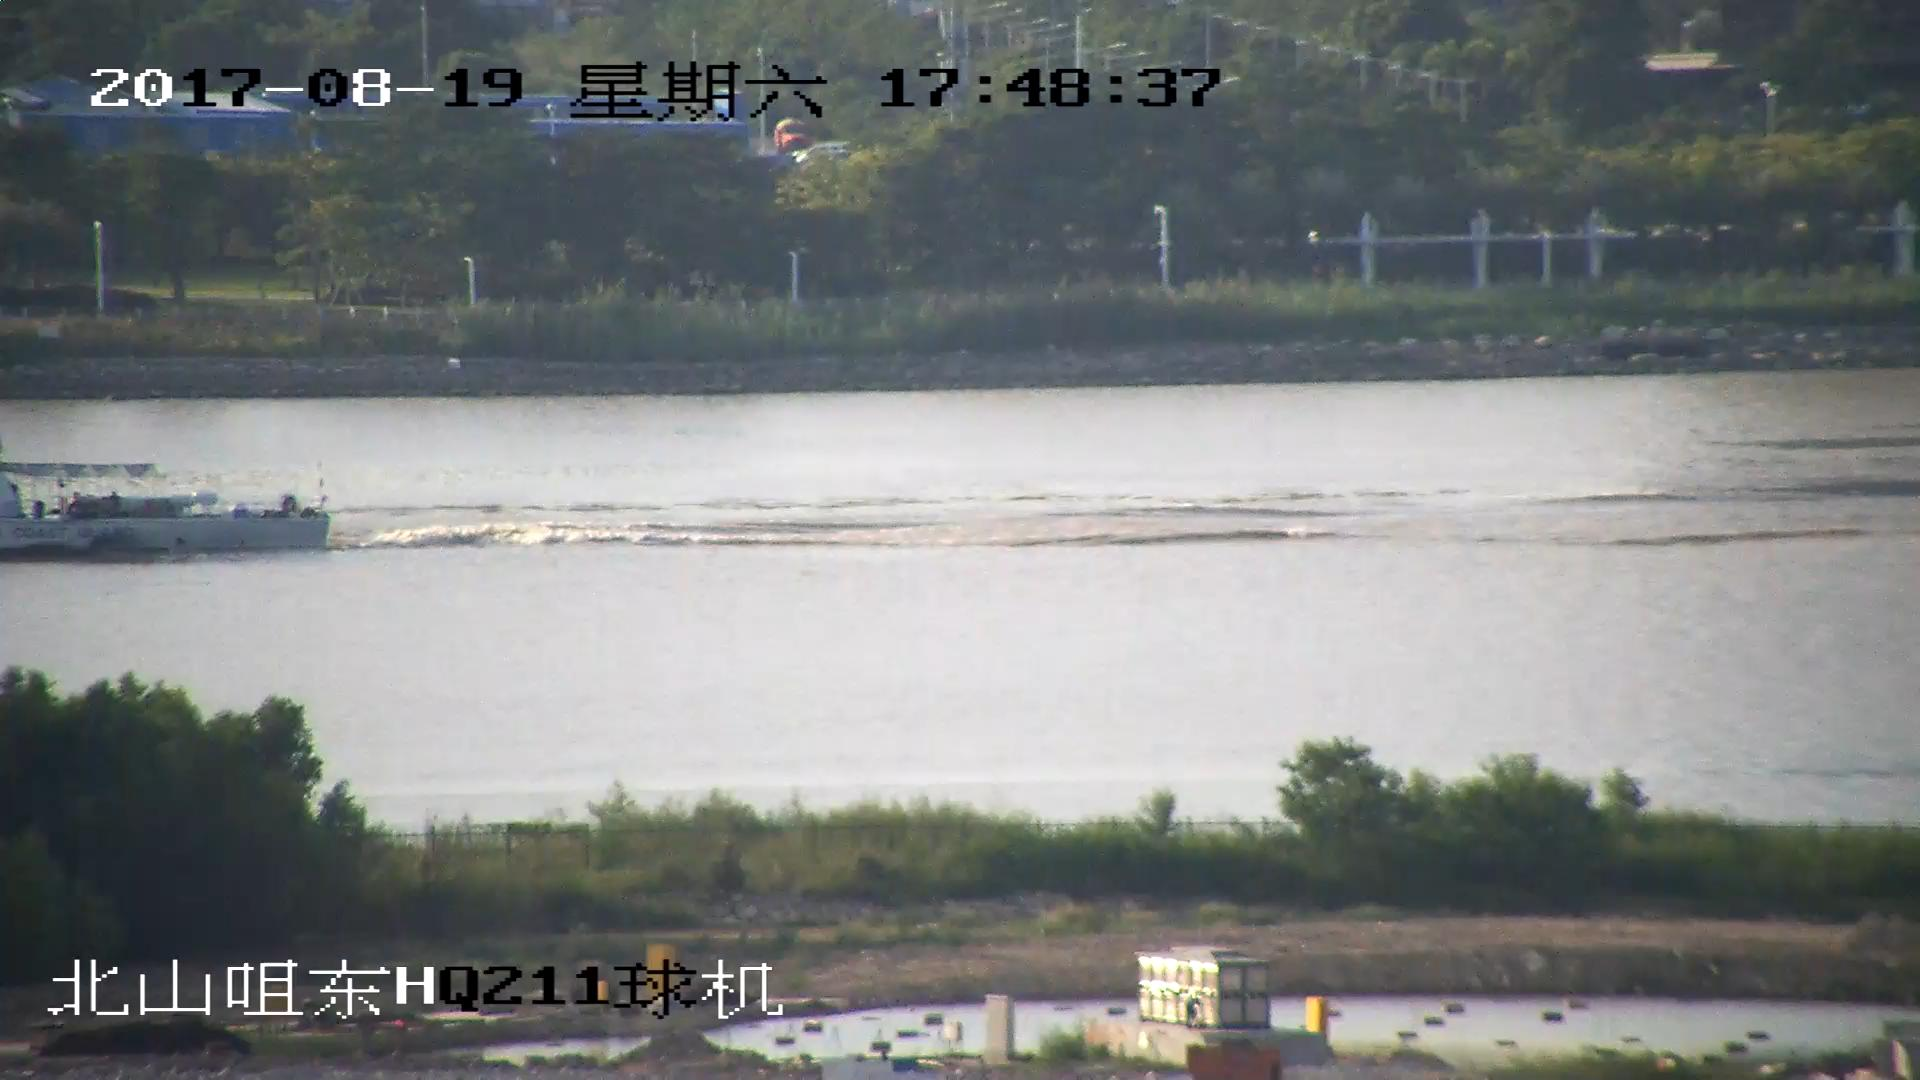passenger ship: (1, 457, 332, 556)
